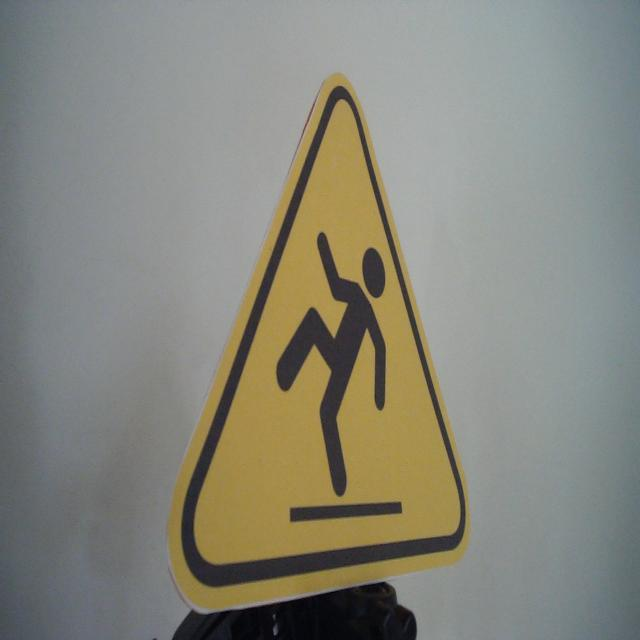slippery_sign: (161, 69, 472, 620)
